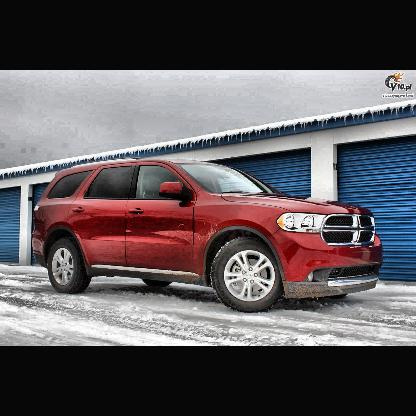Dodge Durango SUV 2012: (31, 158, 383, 313)
